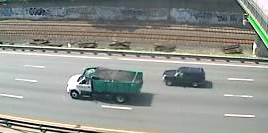car: (61, 64, 148, 103), (159, 65, 208, 89)
